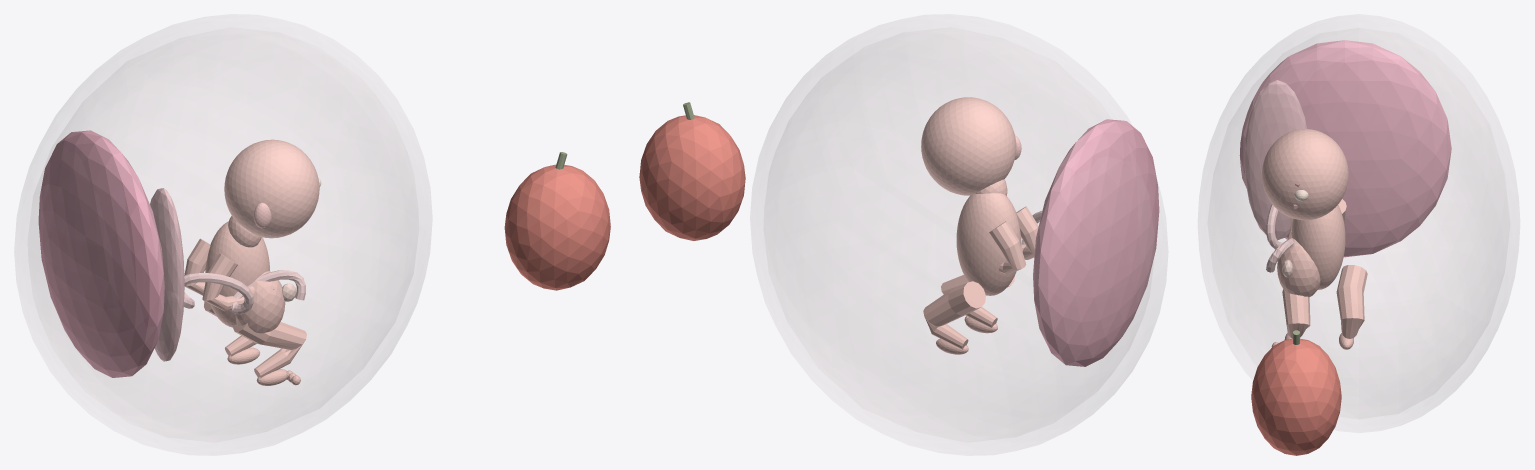
Rendered from hafta_15.glb.
The picture shows the model from 3 angles, left to right: view 1: azimuth 30°, elevation 25°; view 2: azimuth 150°, elevation 25°; view 3: azimuth 270°, elevation 25°; orthographic projection. The views are drawn at different scales.
Visible parts, largest first — view 1: Gebelik_kesesi_dis_zar_25, Plasenta_gelisen_doku_27, Meyve_Elma_29, Bas_1, Plasenta_yumusak_yuzey_28, Gogus_govde_2, Bacak_on_18, Gobek_kordonu_ogretici_24, Gobel_ve_karin_3, Kol_on_11, Kol_on_arka_9; view 2: Gebelik_kesesi_dis_zar_25, Plasenta_gelisen_doku_27, Meyve_Elma_29, Bas_1, Gogus_govde_2, Bacak_arka_16, Kol_on_arka_9, Kol_on_11, Bacak_on_18; view 3: Gebelik_kesesi_dis_zar_25, Plasenta_gelisen_doku_27, Meyve_Elma_29, Bas_1, Plasenta_yumusak_yuzey_28, Gogus_govde_2, Bacak_arka_16, Gobel_ve_karin_3, Bacak_on_18, Gobek_kordonu_ogretici_24.
Boxes of the visible parts, x1,y1,x2,y2 form: Gebelik_kesesi_dis_zar_25: (14, 14, 431, 455); Plasenta_gelisen_doku_27: (38, 130, 164, 377); Meyve_Elma_29: (504, 164, 610, 290); Bas_1: (224, 139, 319, 238); Plasenta_yumusak_yuzey_28: (150, 188, 184, 361); Gogus_govde_2: (205, 221, 269, 327); Bacak_on_18: (233, 322, 306, 377); Gobek_kordonu_ogretici_24: (184, 270, 305, 314); Gobel_ve_karin_3: (235, 271, 285, 333); Kol_on_11: (202, 253, 244, 311); Kol_on_arka_9: (184, 238, 210, 295); Gebelik_kesesi_dis_zar_25: (750, 14, 1167, 455); Plasenta_gelisen_doku_27: (1033, 119, 1159, 366); Meyve_Elma_29: (639, 115, 745, 240); Bas_1: (921, 97, 1016, 195); Gogus_govde_2: (956, 193, 1021, 295); Bacak_arka_16: (923, 281, 985, 349); Kol_on_arka_9: (988, 221, 1026, 274); Kol_on_11: (1016, 206, 1038, 259); Bacak_on_18: (941, 275, 1014, 327); Gebelik_kesesi_dis_zar_25: (1198, 14, 1519, 432); Plasenta_gelisen_doku_27: (1239, 40, 1451, 257); Meyve_Elma_29: (1251, 338, 1341, 455); Bas_1: (1262, 129, 1348, 220); Plasenta_yumusak_yuzey_28: (1244, 80, 1306, 239); Gogus_govde_2: (1291, 204, 1345, 289); Bacak_arka_16: (1336, 265, 1367, 338); Gobel_ve_karin_3: (1277, 238, 1320, 297); Bacak_on_18: (1282, 289, 1310, 338); Gobek_kordonu_ogretici_24: (1266, 204, 1293, 272).
Bounding box in the file's own units: 11.03 × 8.1 × 6.2.
